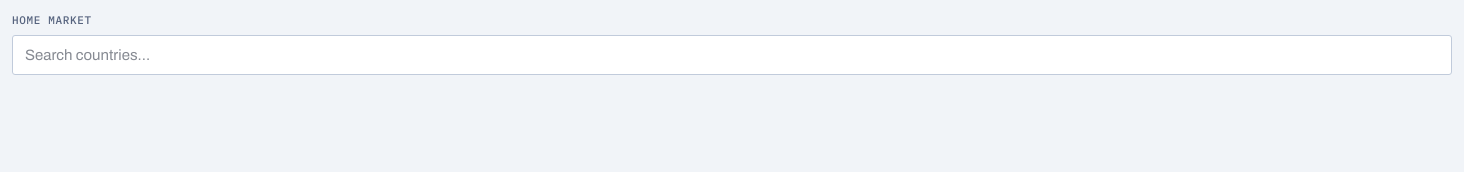
Test: CountrySelect › filters options as the user types
Step 1. Type "germ" into the dropdown labelled "Home market" → (732, 55), box [12,34,1452,75]
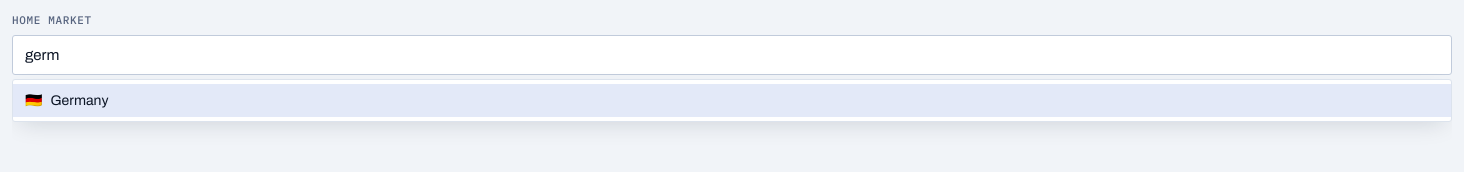
Now the option "🇩🇪 Germany" is shown, box [13,84,1451,117]
